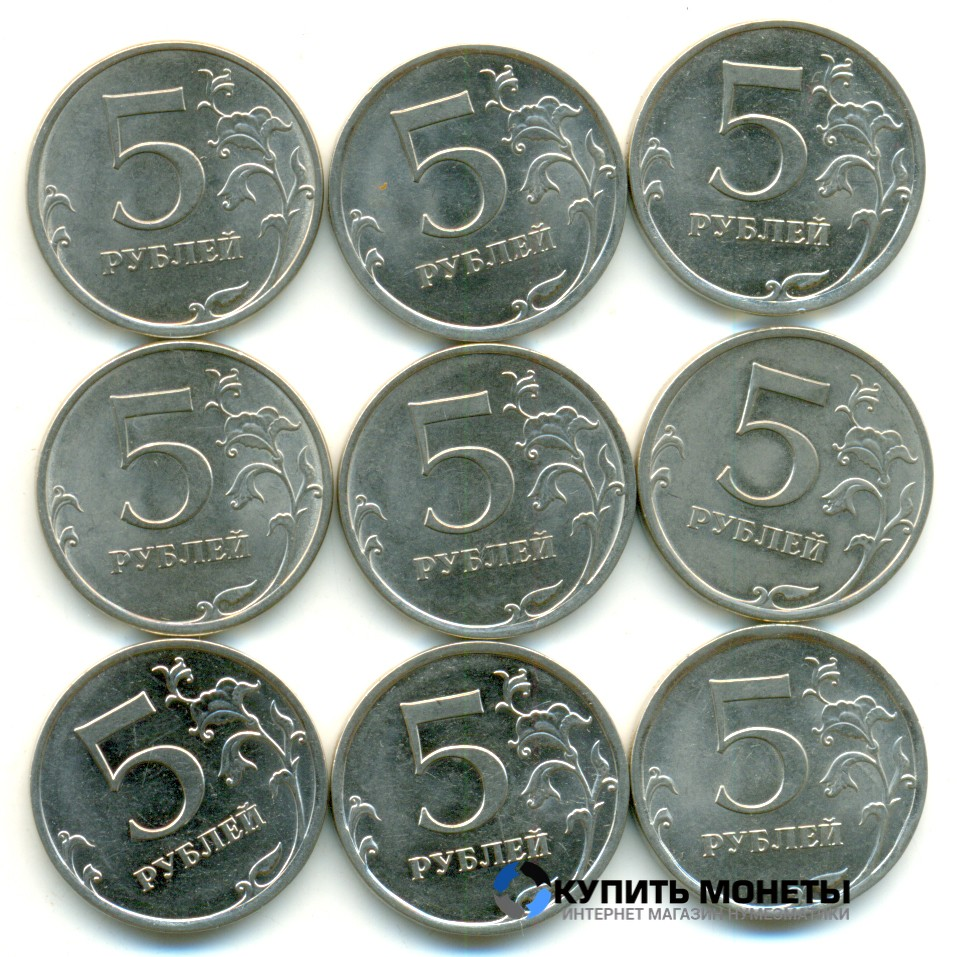coin: (332, 639, 630, 938), (31, 36, 328, 335), (628, 624, 929, 919), (339, 342, 637, 639), (639, 325, 934, 623), (626, 23, 925, 316), (34, 636, 326, 935), (41, 339, 329, 636), (333, 44, 620, 338)
